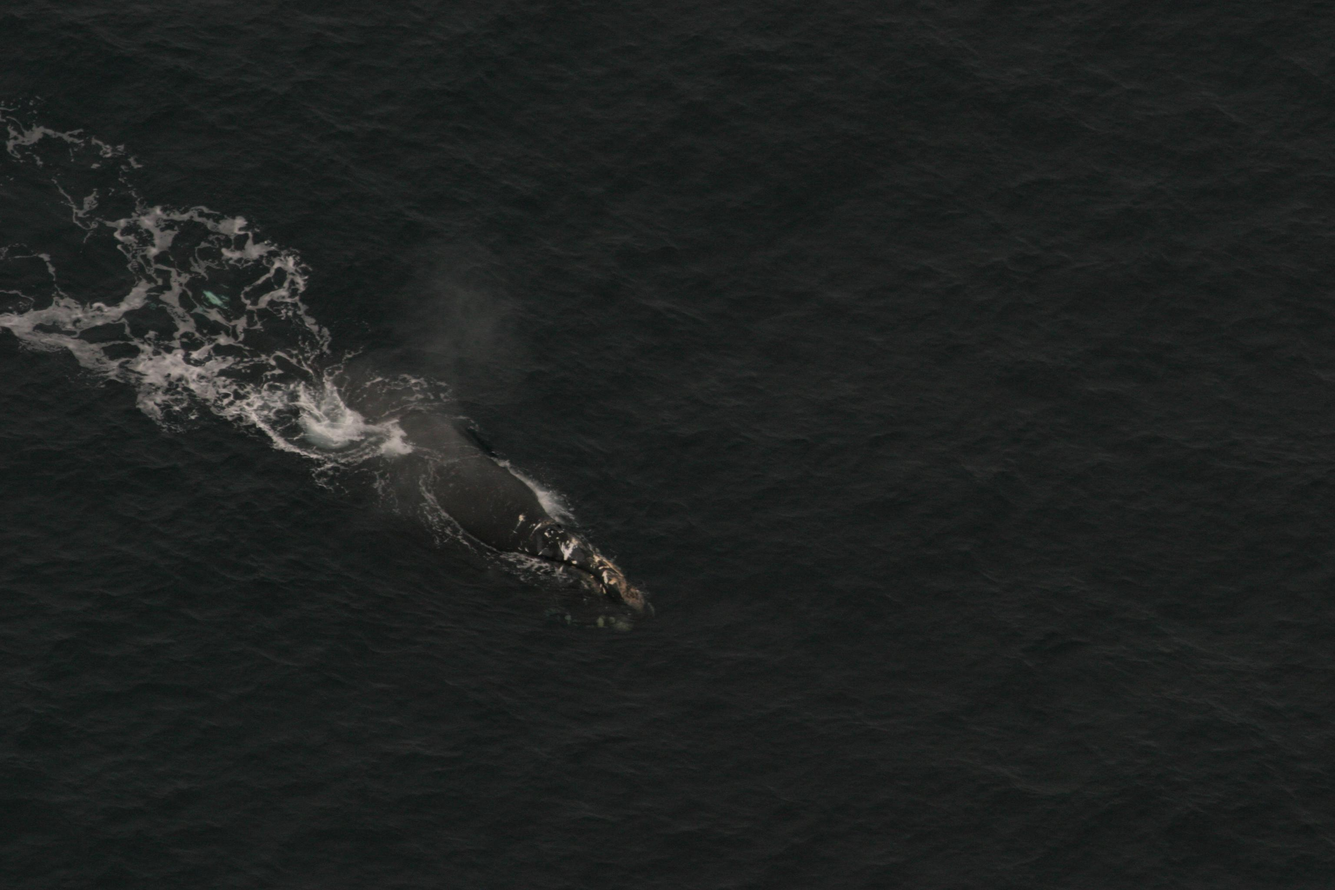whale: (236, 318, 665, 640)
